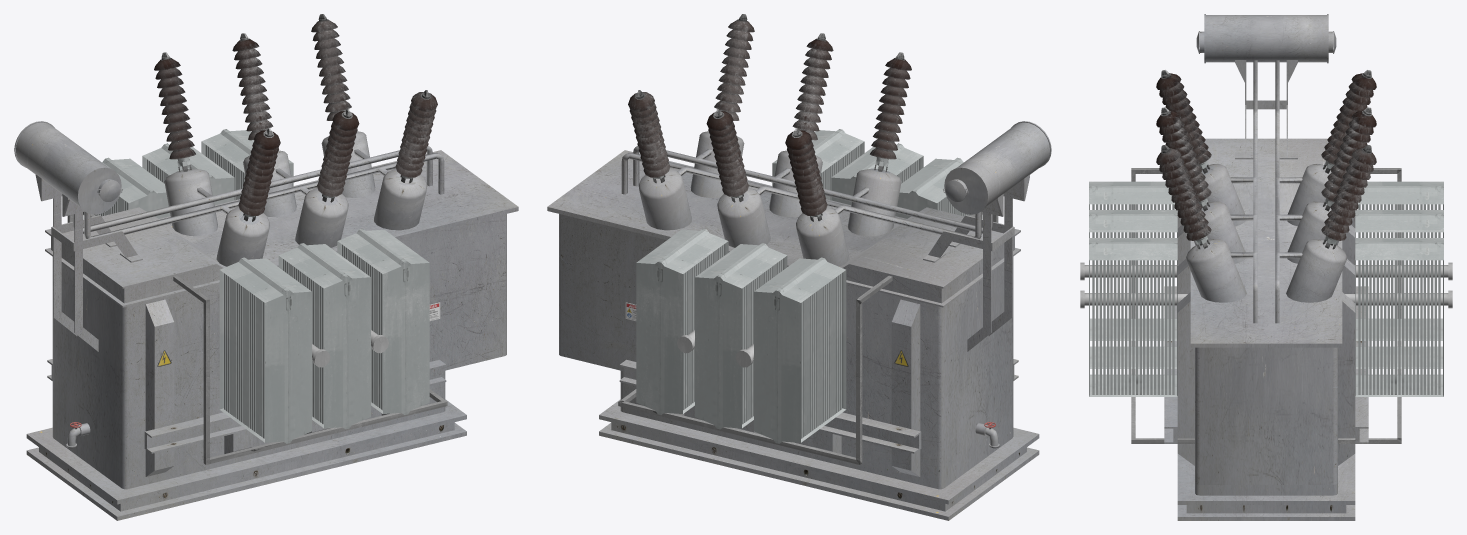
Rendered from high_voltage_power_transformer.glb.
3 views of the same model, side by side, from view 1: azimuth 30°, elevation 25°; view 2: azimuth 150°, elevation 25°; view 3: azimuth 270°, elevation 25° (orthographic). The views are drawn at different scales.
Parts seen in each view (by area): view 1: transformer2_boxUV; view 2: transformer2_boxUV; view 3: transformer2_boxUV.
Part boxes in pixels (x1=…): transformer2_boxUV: x1=14, y1=14, x2=518, y2=520; transformer2_boxUV: x1=547, y1=14, x2=1051, y2=520; transformer2_boxUV: x1=1080, y1=14, x2=1452, y2=520.
Size of the model in its own units: 5.52 by 4.4 by 4.2.
2 materials, 2 textured.
